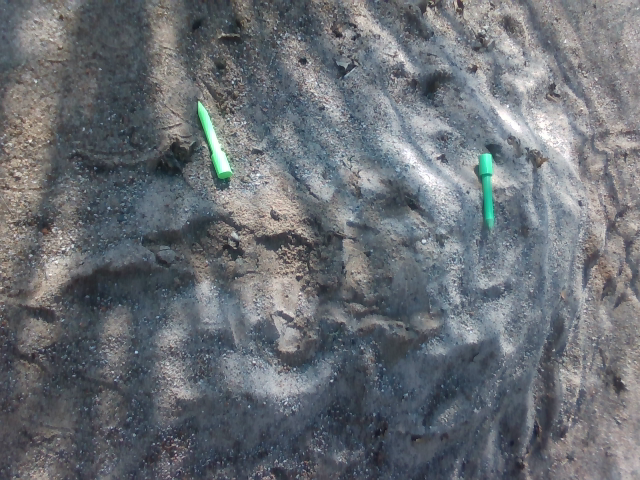Probe: (192, 94, 236, 183), (476, 149, 498, 241)
